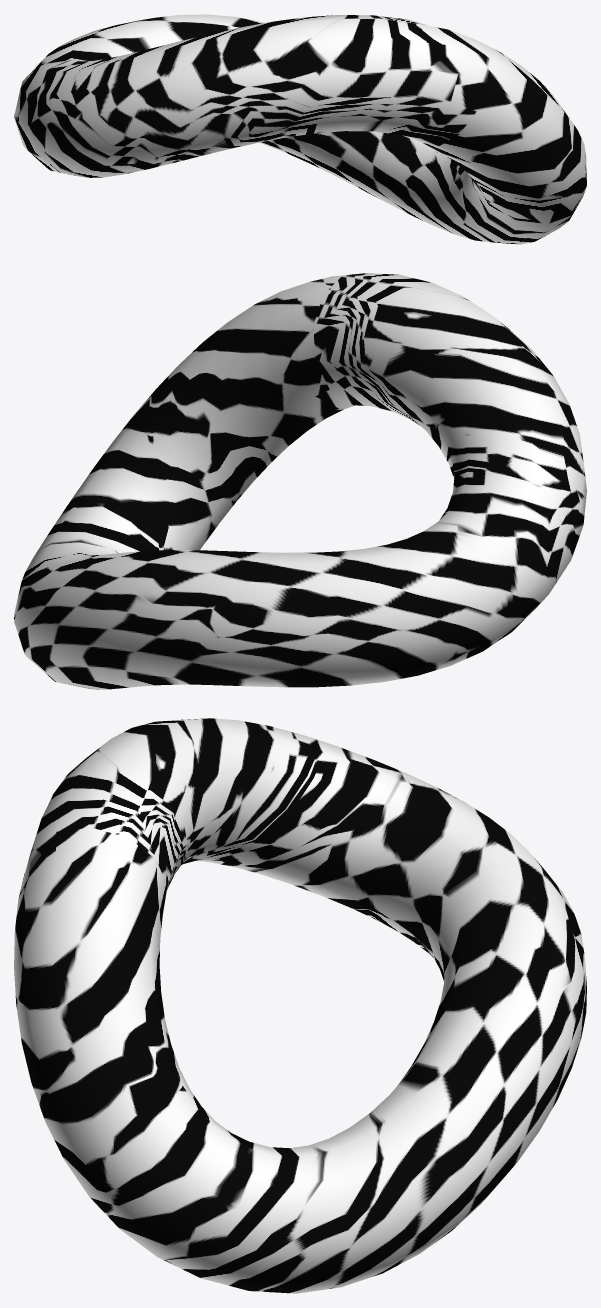
Rendered from TrippyDonut.fbx.
3 renders of one model, top to bottom at view 1: azimuth 30°, elevation 25°; view 2: azimuth 150°, elevation 25°; view 3: azimuth 270°, elevation 25°, orthographic. The views are drawn at different scales.
Visible parts, largest first — view 1: Funky vormpje1; view 2: Funky vormpje1; view 3: Funky vormpje1.
Part boxes in pixels (x1,y1,x2,y2): Funky vormpje1: [14, 14, 586, 244]; Funky vormpje1: [14, 273, 586, 689]; Funky vormpje1: [14, 718, 586, 1293].
Bounding box in the file's own units: 273 × 173 × 228.
1 material, 1 textured.
